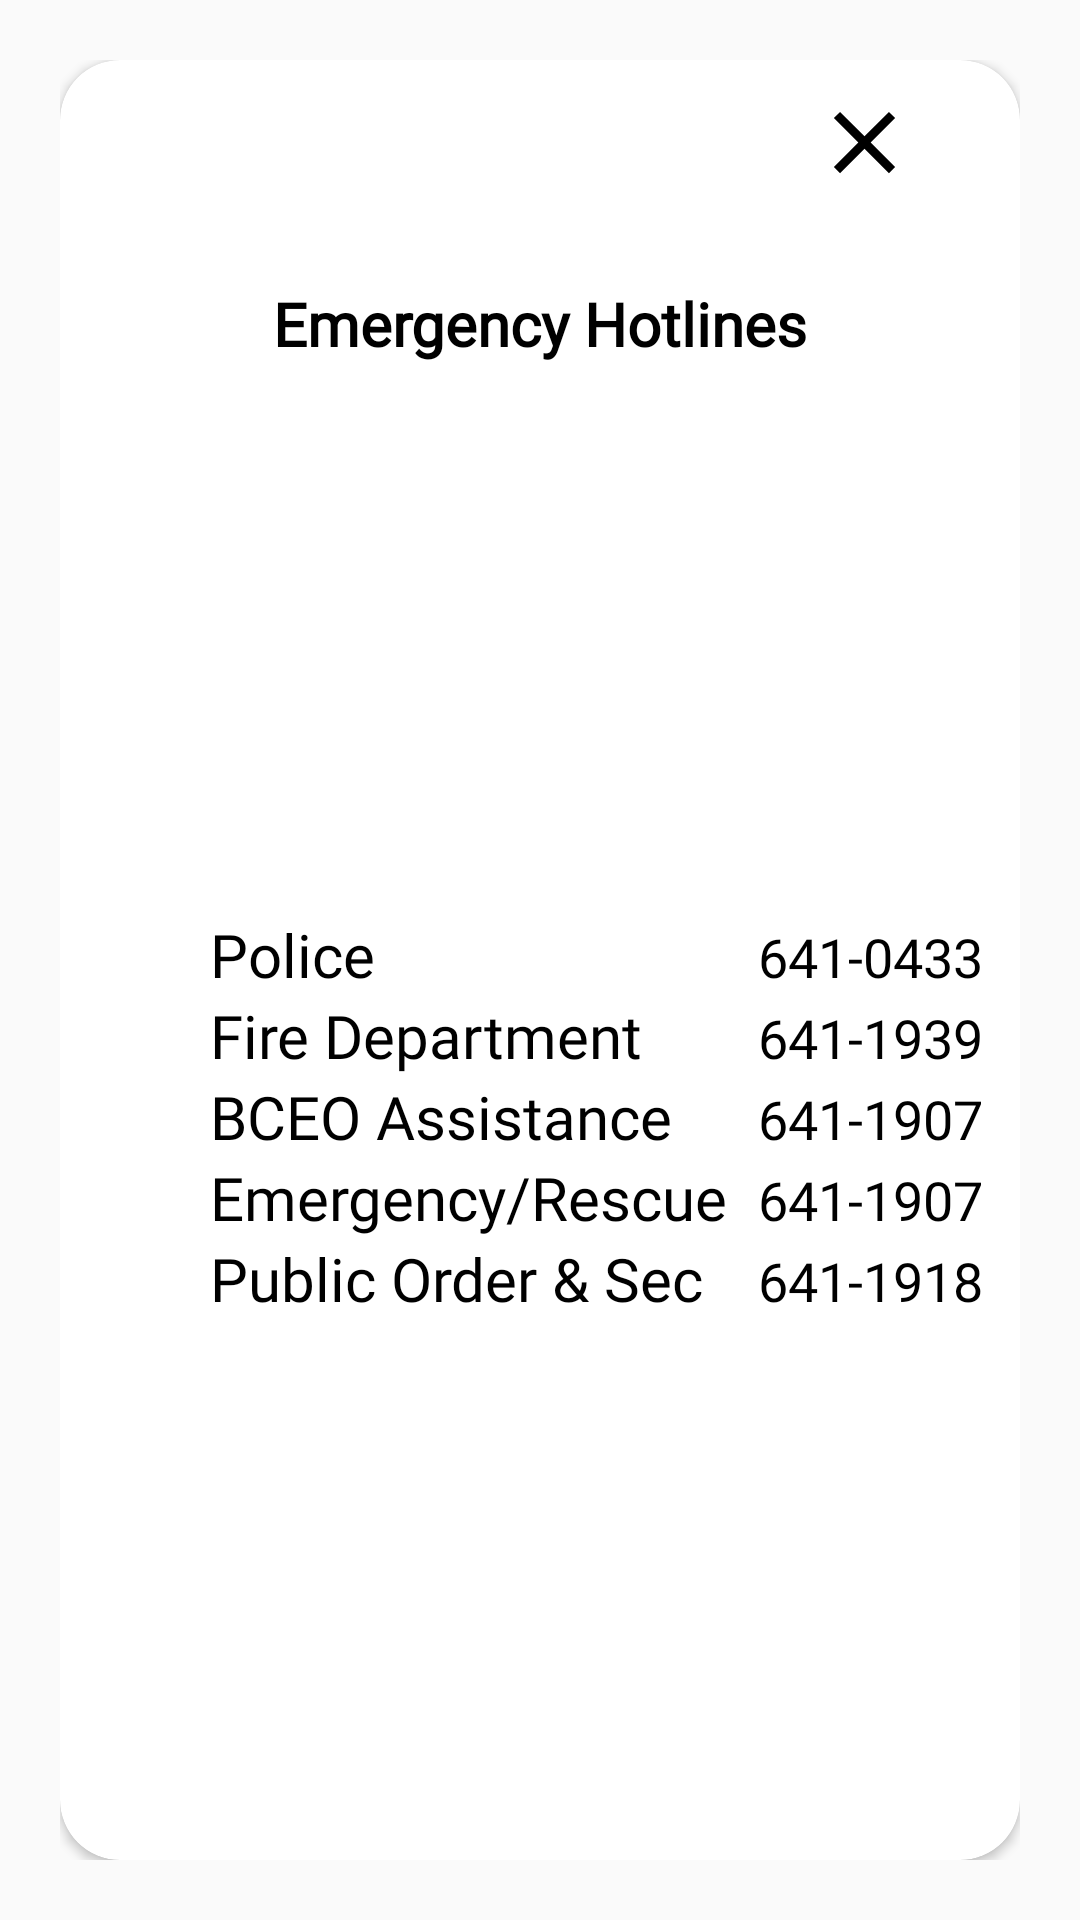

Named icons in this screenshot (1080 × 1920) and their centers, (x,y):
close: (864,142)
